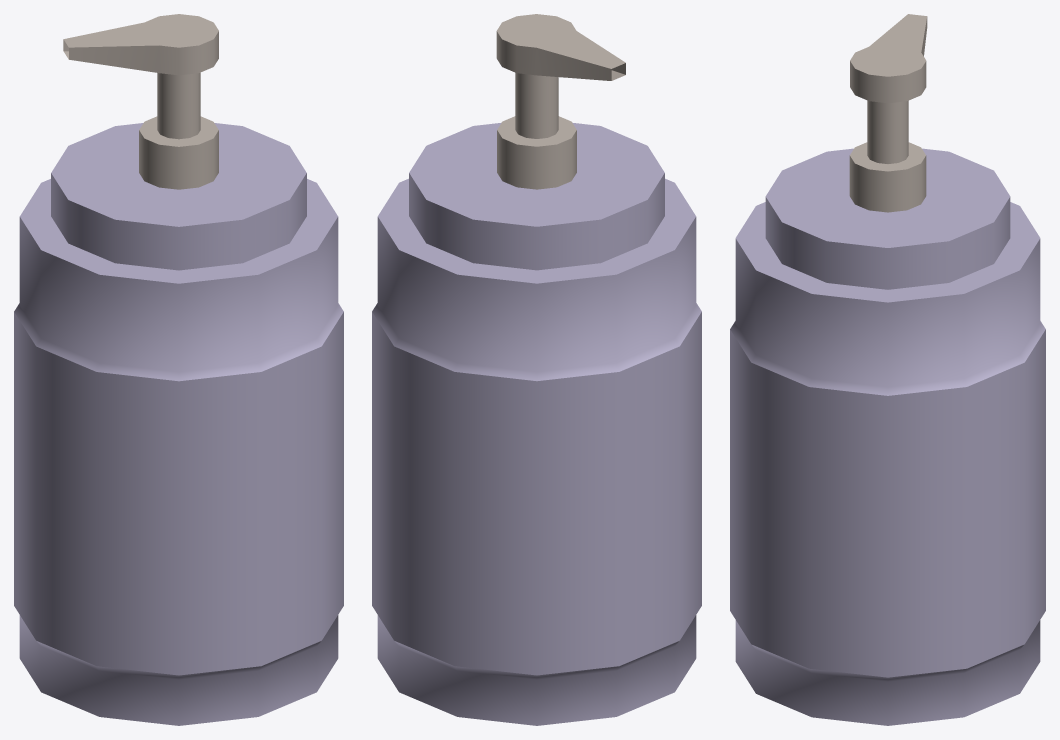
Rendered from Shampoo5.fbx.
The picture shows the model from 3 angles, left to right: view 1: azimuth 30°, elevation 25°; view 2: azimuth 150°, elevation 25°; view 3: azimuth 270°, elevation 25°; orthographic projection. The views are drawn at different scales.
Visible parts, largest first — view 1: Shampoo5; view 2: Shampoo5; view 3: Shampoo5.
Boxes of the visible parts, box(x1,y1,x2,y2) form: Shampoo5: box(14, 14, 343, 725); Shampoo5: box(372, 14, 701, 725); Shampoo5: box(730, 14, 1045, 725).
Bounding box in the file's own units: 8.42 × 8.42 × 17.69.
